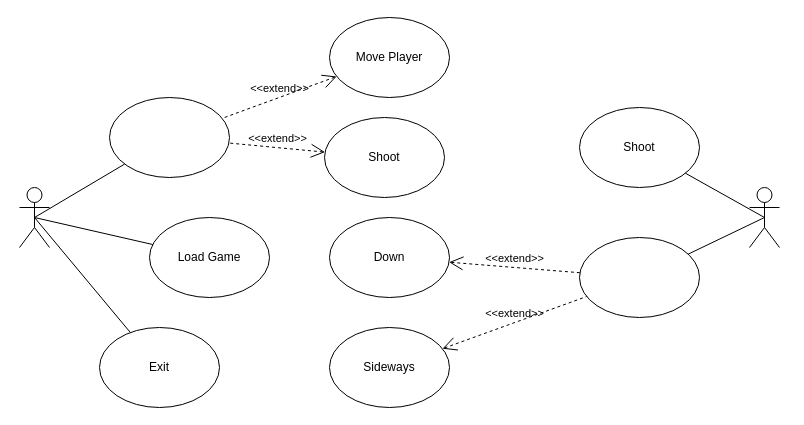
Some shapes in this 804 by 425 pixel diagram are drawn without their labels. Here are the shapes that lost their labels. From the top down, the box of each, then its label:
(108, 96, 230, 178): Start Game
(18, 186, 50, 248): Player
(748, 186, 780, 248): Invaders
(578, 236, 700, 318): Move
